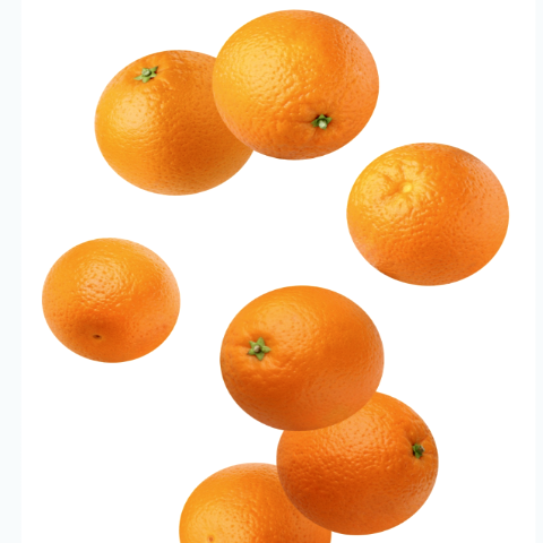orange: (338, 140, 522, 308), (203, 0, 389, 166), (261, 384, 464, 535), (83, 44, 267, 198), (209, 283, 389, 437), (38, 227, 181, 369), (168, 447, 334, 543)
